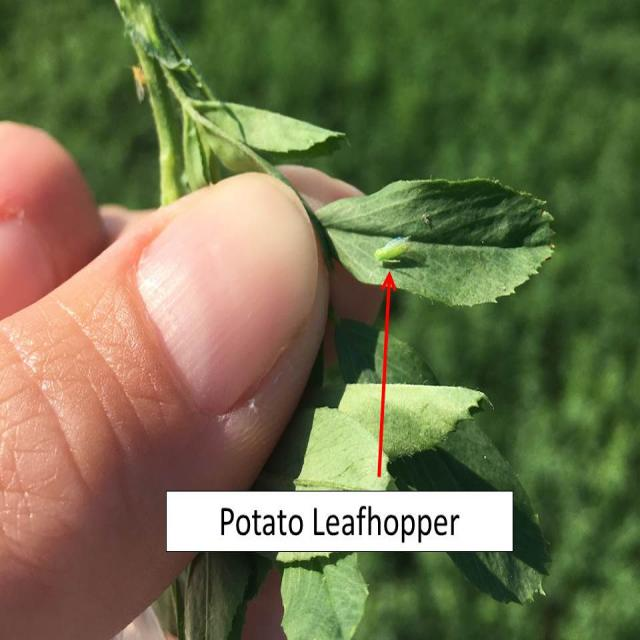Yechan: (358, 227, 420, 269)
